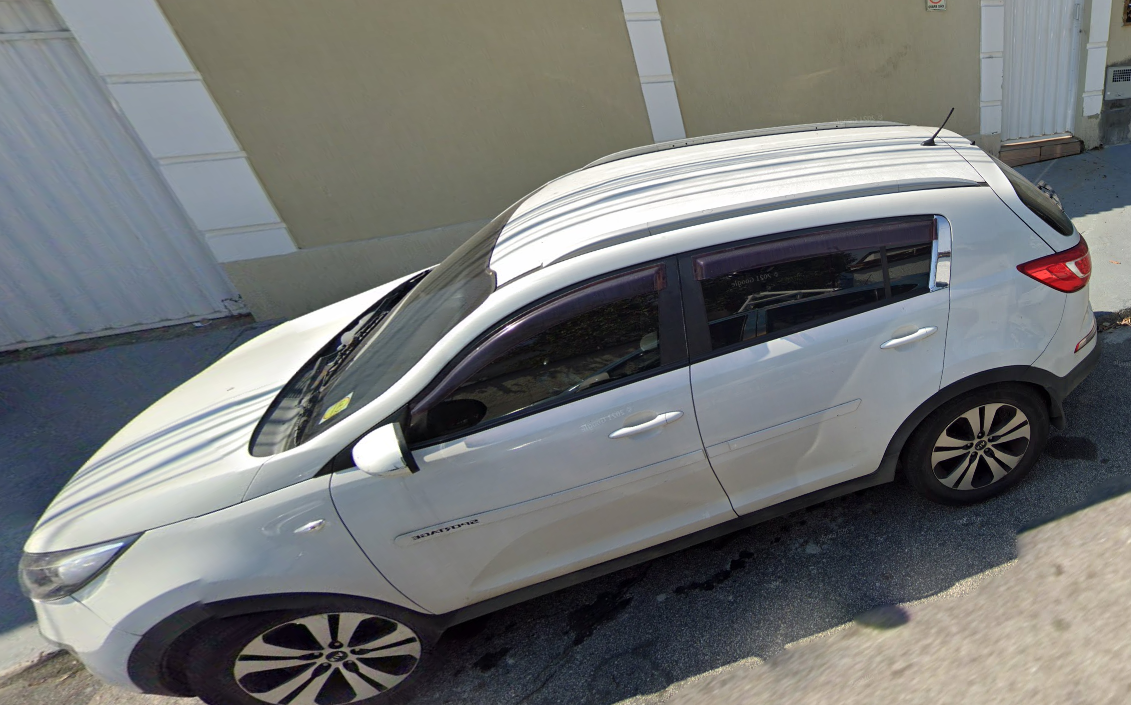car: (18, 122, 1101, 705)
